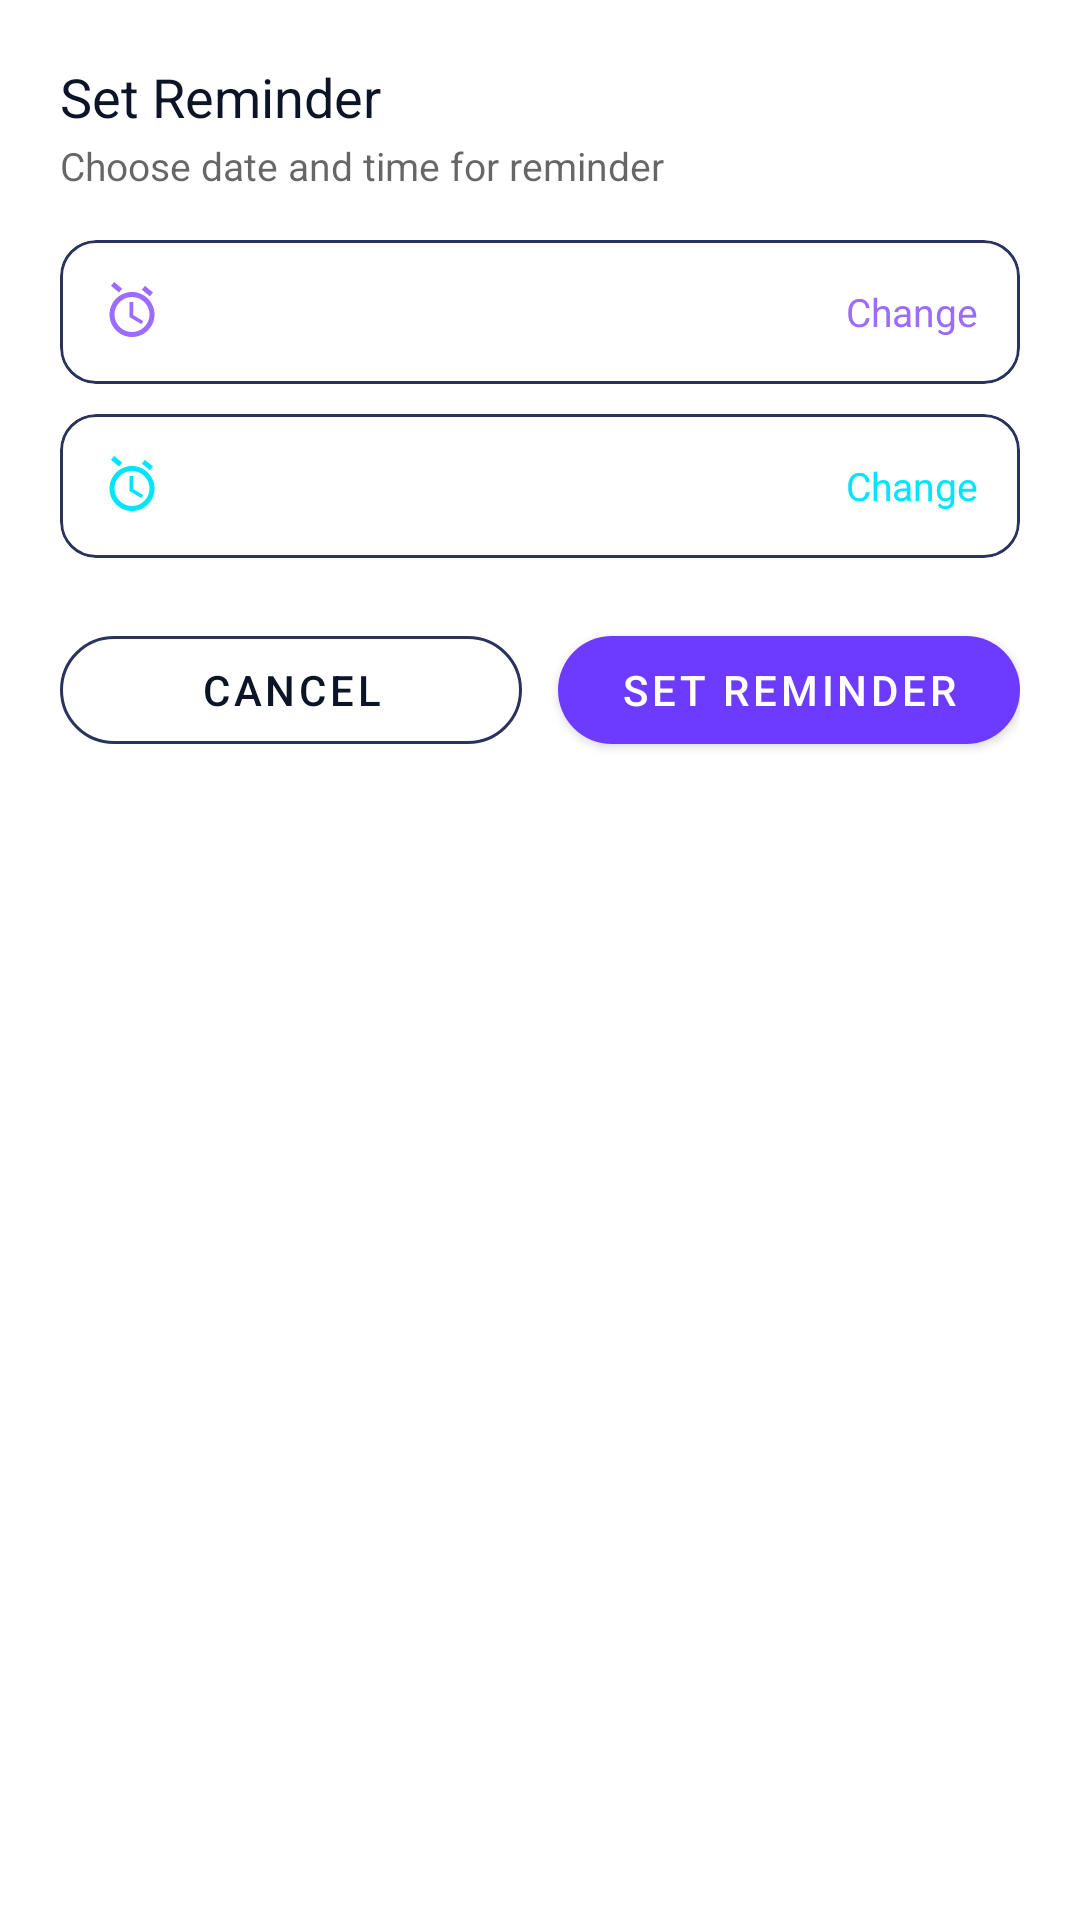

Point at icon controls on the screen. Image size 1080 × 1920, points as point (x, y).
alarm: point (132, 309), point (132, 483)
